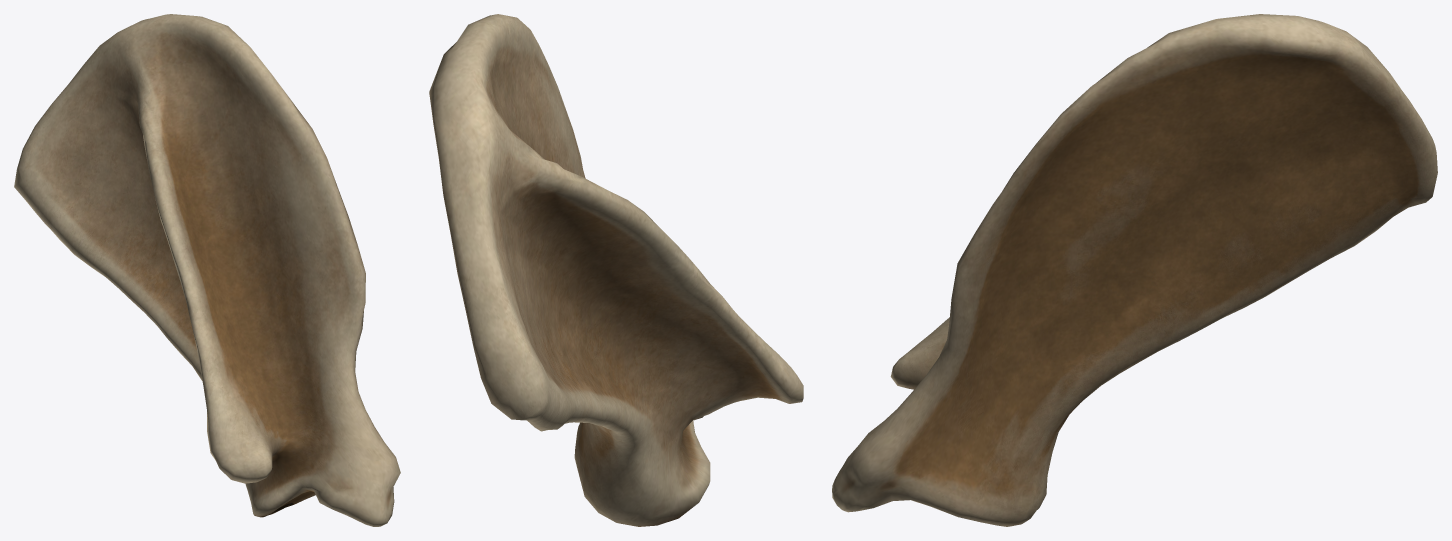
Rendered from Scapula.glb.
3 renders of one model, left to right at view 1: azimuth 30°, elevation 25°; view 2: azimuth 150°, elevation 25°; view 3: azimuth 270°, elevation 25°, orthographic. The views are drawn at different scales.
Parts seen in each view (by area): view 1: Scapula_Right1:Group16498; view 2: Scapula_Right1:Group16498; view 3: Scapula_Right1:Group16498.
Boxes of the visible parts, x1,y1,x2,y2 form: Scapula_Right1:Group16498: (14,14,400,526); Scapula_Right1:Group16498: (429,14,803,526); Scapula_Right1:Group16498: (832,14,1437,526).
Bounding box in the file's own units: 30.33 × 72.36 × 77.24.
Materials: 1 (1 with a texture image).
